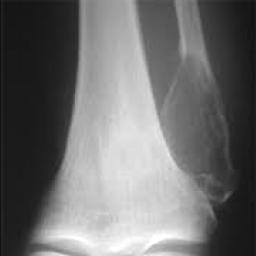cancer: (159, 55, 232, 209)
